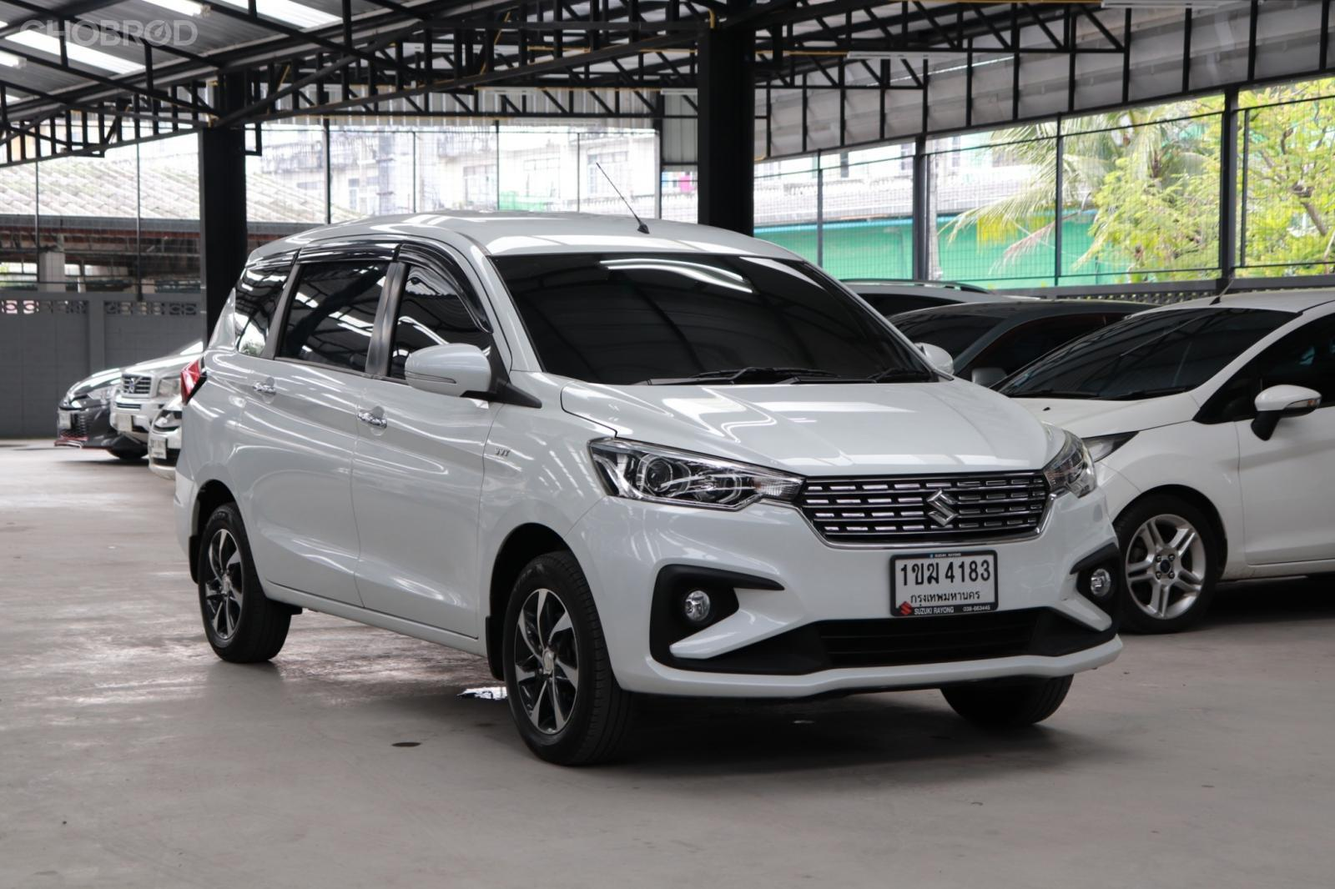license-plate: (889, 548, 1009, 619), (143, 431, 172, 469), (115, 410, 138, 440), (59, 413, 73, 432)
